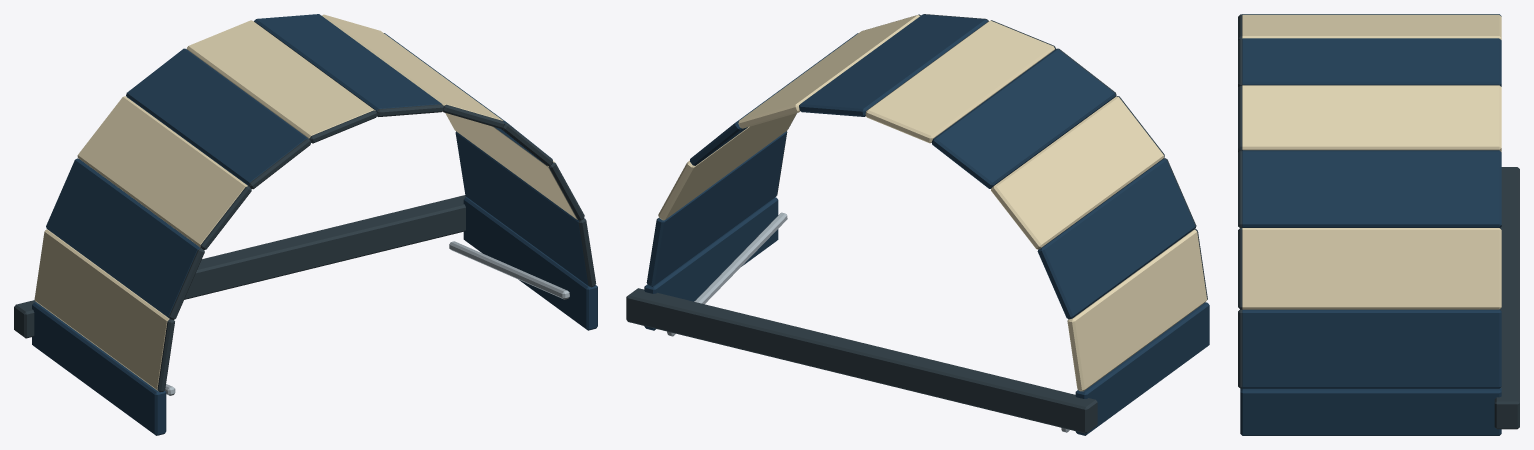
The model's file is b12_barrel_entrance_awning.glb.
The picture shows the model from 3 angles, left to right: view 1: azimuth 30°, elevation 25°; view 2: azimuth 150°, elevation 25°; view 3: azimuth 270°, elevation 25°; orthographic projection. The views are drawn at different scales.
Visible parts, largest first — view 1: b12_barrel_entrance_awning; view 2: b12_barrel_entrance_awning; view 3: b12_barrel_entrance_awning.
Boxes of the visible parts, box(x1,y1,x2,y2) form: b12_barrel_entrance_awning: box(14, 14, 597, 435); b12_barrel_entrance_awning: box(626, 14, 1209, 435); b12_barrel_entrance_awning: box(1238, 14, 1519, 435).
Bounding box in the file's own units: 1.99 × 1.14 × 1.
